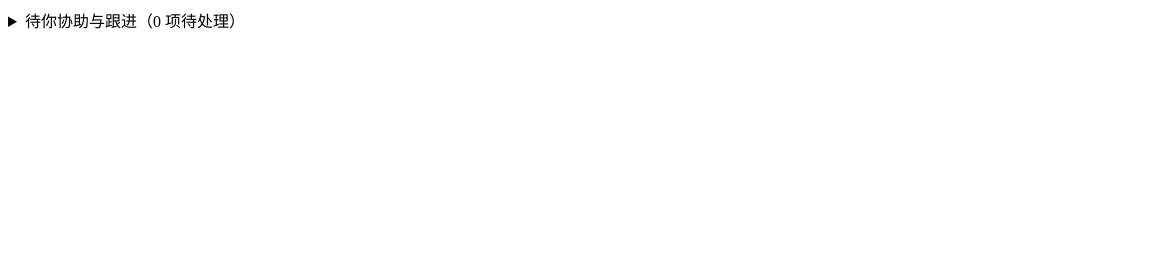
Test: assistance continuity › lets a saved public result be scheduled later without editing its content
Later steps or results of the test are not shown.
Click the heading "待你协助与跟进（0 项待处理）" at (135, 22), box [25,13,245,30]
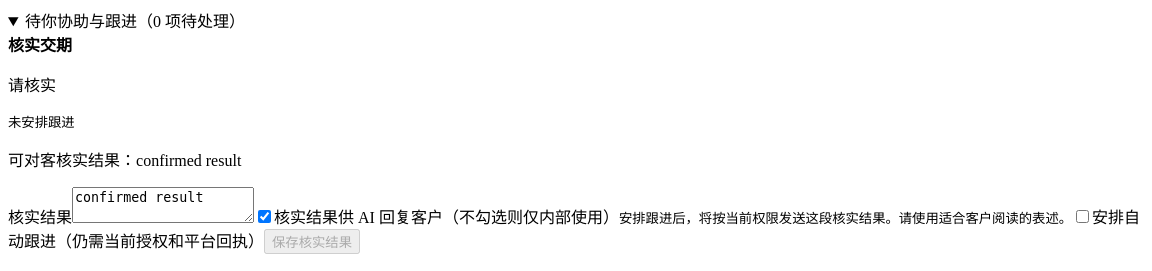
Result: the button "保存核实结果" is disabled at [264,229,360,254]
